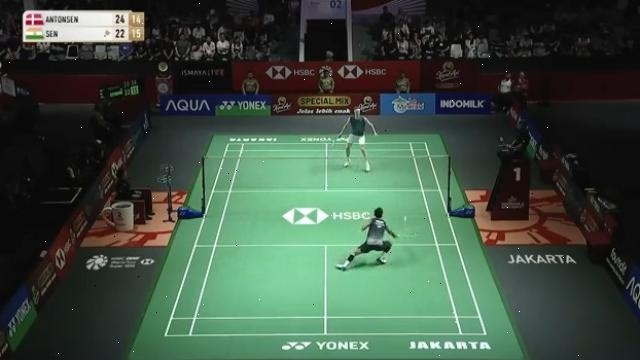Shuttlecock: (401, 214, 412, 224)
